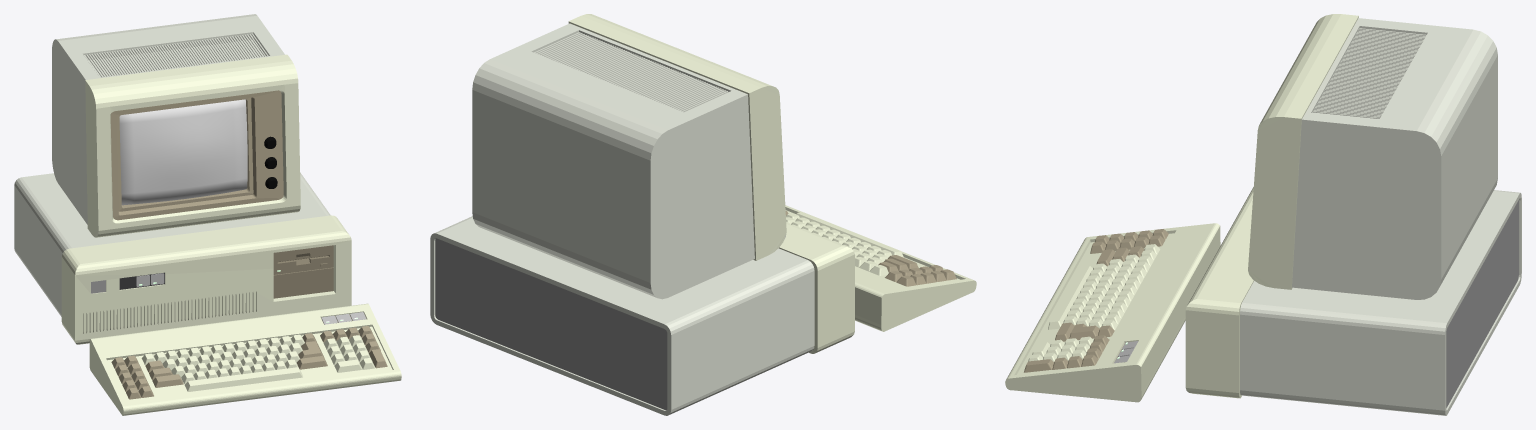
Rendered from RetroComputer.gltf.
3 renders of one model, left to right at view 1: azimuth 30°, elevation 25°; view 2: azimuth 150°, elevation 25°; view 3: azimuth 270°, elevation 25°, orthographic. The views are drawn at different scales.
Visible parts, largest first — view 1: monitor, cpu, kewboard, Cube, vent monitor, flopy, Plane.004, Plane.002, Plane.005, Plane.007, Plane.009, Plane.003 (+2 smaller); view 2: monitor, cpu, vent monitor, kewboard, Plane.002, Plane.009, Plane.001, Plane.007; view 3: monitor, cpu, kewboard, vent monitor, Plane.004, Plane.005, Plane.007, Plane.002, Plane.009, Plane.003, Plane.001, Plane.016.
Part boxes in pixels (box(x1,y1,x2,y2)): monitor: box(52, 14, 300, 237); cpu: box(14, 173, 351, 344); kewboard: box(89, 303, 401, 415); Cube: box(119, 99, 247, 205); vent monitor: box(84, 33, 268, 77); flopy: box(273, 245, 333, 298); Plane.004: box(141, 334, 304, 365); Plane.002: box(184, 367, 302, 391); Plane.005: box(162, 343, 302, 370); Plane.007: box(171, 351, 299, 376); Plane.009: box(181, 359, 298, 384); Plane.003: box(124, 355, 153, 397); monitor: box(472, 14, 786, 299); cpu: box(430, 216, 854, 415); vent monitor: box(534, 32, 728, 112); kewboard: box(785, 205, 976, 331); Plane.002: box(796, 212, 903, 257); Plane.009: box(786, 213, 891, 258); Plane.001: box(896, 269, 956, 286); Plane.007: box(786, 217, 887, 262); monitor: box(1248, 14, 1497, 299); cpu: box(1185, 187, 1521, 415); kewboard: box(1005, 223, 1220, 402); vent monitor: box(1312, 28, 1426, 119); Plane.004: box(1102, 244, 1160, 330); Plane.005: box(1089, 254, 1138, 328); Plane.007: box(1076, 259, 1123, 326); Plane.002: box(1048, 265, 1092, 329); Plane.009: box(1063, 263, 1106, 325); Plane.003: box(1090, 235, 1165, 253); Plane.001: box(1095, 229, 1168, 244); Plane.016: box(1052, 354, 1098, 369).
Bounding box in the file's own units: 6.76 × 4.83 × 8.16.
